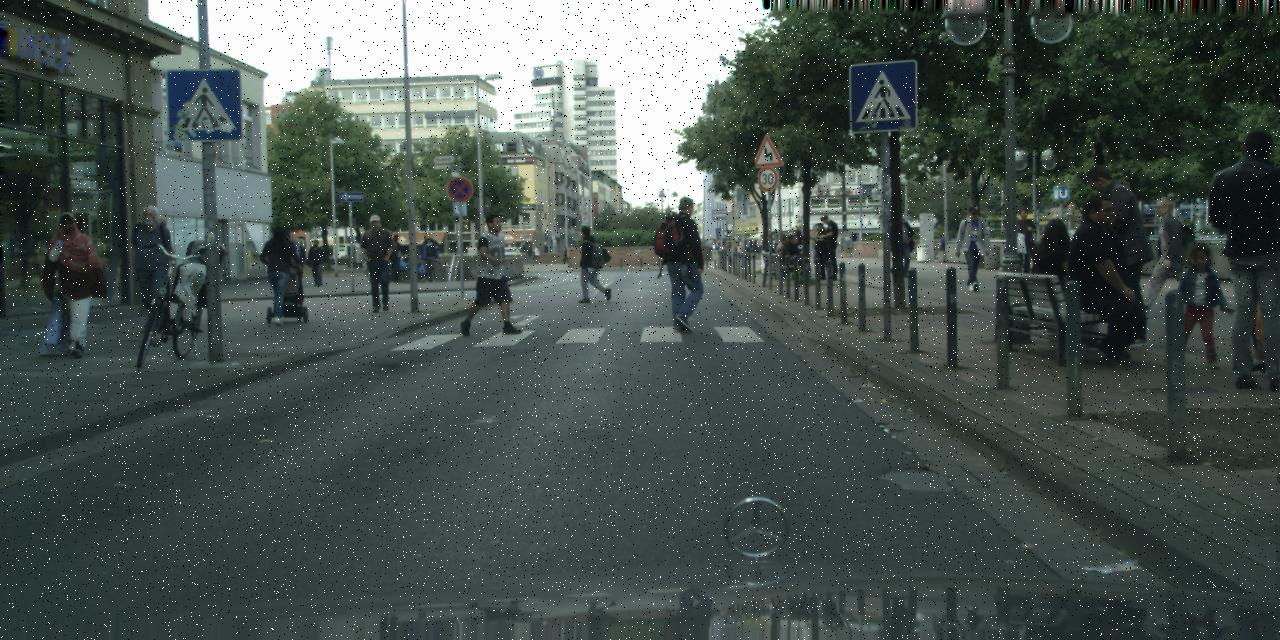ped: (1210, 130, 1279, 384), (1077, 164, 1150, 344), (37, 211, 95, 353), (657, 195, 711, 328), (1170, 240, 1220, 364), (130, 205, 180, 328), (466, 214, 515, 333), (1144, 196, 1192, 313), (259, 226, 299, 324), (358, 214, 398, 310), (957, 206, 990, 289), (576, 226, 606, 300), (1008, 207, 1038, 280), (885, 209, 912, 277), (816, 213, 842, 279), (772, 226, 802, 272), (811, 223, 834, 278), (807, 224, 827, 273), (385, 234, 405, 282), (419, 232, 439, 280), (286, 238, 305, 286), (308, 238, 326, 285), (734, 234, 762, 254), (705, 238, 731, 250), (524, 242, 532, 264), (532, 246, 540, 264), (561, 245, 568, 263), (520, 241, 526, 256), (764, 236, 768, 252), (810, 232, 812, 234), (813, 253, 813, 266), (814, 224, 814, 226)
